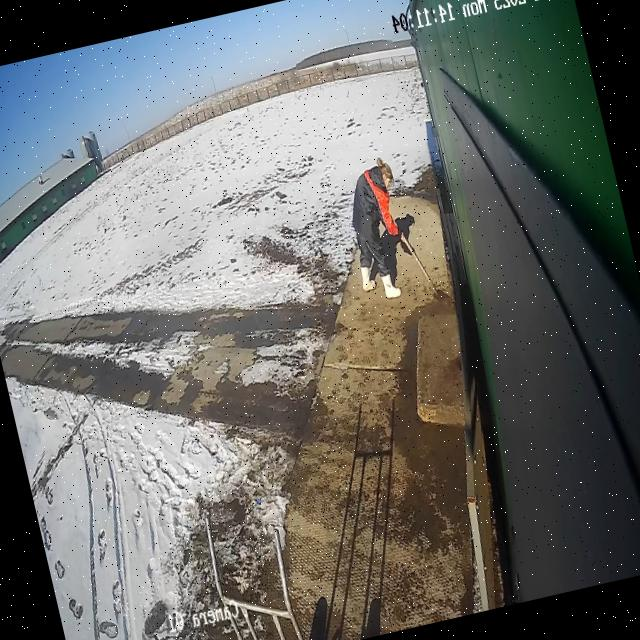Red uniform: (333, 152, 426, 306)
